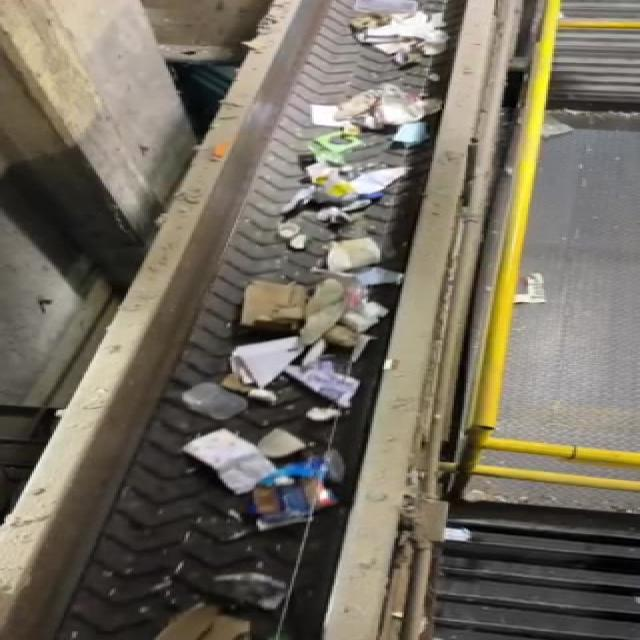paper: (175, 427, 275, 501)
pet: (252, 458, 355, 538)
